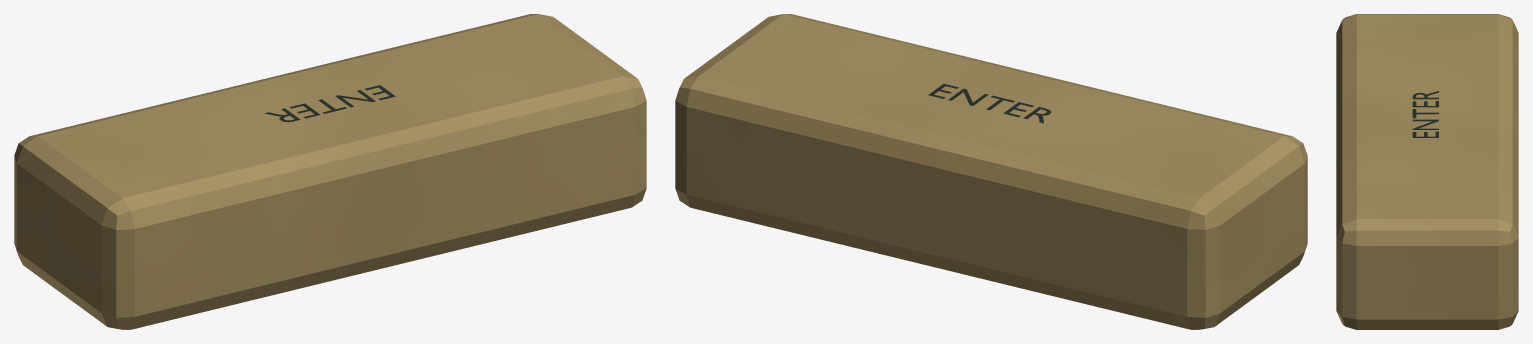
File: TERMINAL_EnterKey.fbx
3 views of the same model, side by side, from view 1: azimuth 30°, elevation 25°; view 2: azimuth 150°, elevation 25°; view 3: azimuth 270°, elevation 25° (orthographic). The views are drawn at different scales.
Parts seen in each view (by area): view 1: TERMINAL_EnterKey; view 2: TERMINAL_EnterKey; view 3: TERMINAL_EnterKey.
Part boxes in pixels (x1,y1,x2,y2): TERMINAL_EnterKey: [14, 14, 646, 329]; TERMINAL_EnterKey: [675, 14, 1307, 329]; TERMINAL_EnterKey: [1336, 14, 1518, 329].
Bounding box in the file's own units: 0.0776 × 0.0183 × 0.027.
